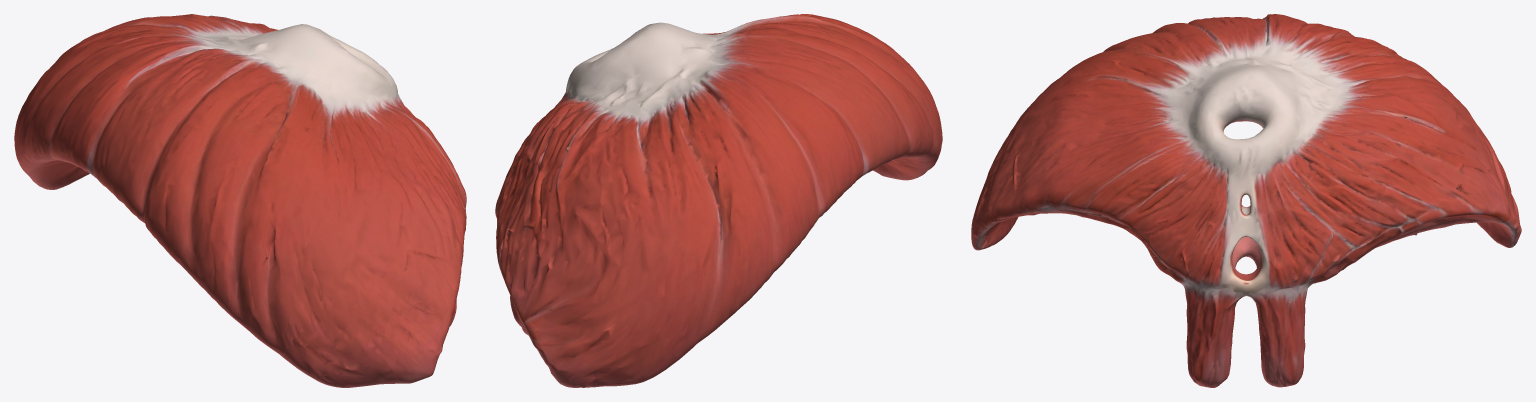
File: diaphragm.glb
3 renders of one model, left to right at view 1: azimuth 30°, elevation 25°; view 2: azimuth 150°, elevation 25°; view 3: azimuth 270°, elevation 25°, orthographic. The views are drawn at different scales.
Parts seen in each view (by area): view 1: tripo_node_629795a3-422b-42a9-b068-385a5e3dfef7; view 2: tripo_node_629795a3-422b-42a9-b068-385a5e3dfef7; view 3: tripo_node_629795a3-422b-42a9-b068-385a5e3dfef7.
Boxes of the visible parts, x1=… form: tripo_node_629795a3-422b-42a9-b068-385a5e3dfef7: x1=14, y1=14, x2=466, y2=387; tripo_node_629795a3-422b-42a9-b068-385a5e3dfef7: x1=495, y1=14, x2=942, y2=387; tripo_node_629795a3-422b-42a9-b068-385a5e3dfef7: x1=971, y1=14, x2=1521, y2=387.
Size of the model in its own units: 0.6231 by 0.5484 by 0.9998.
1 material, 1 textured.
